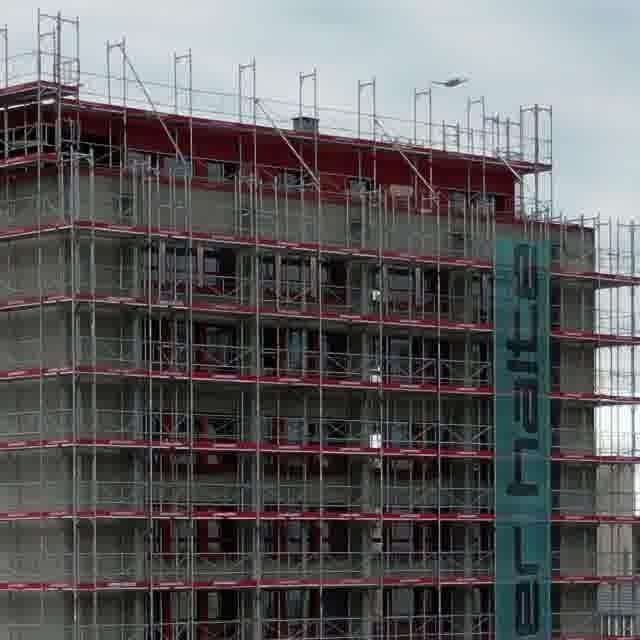Drohne: (434, 75, 468, 87)
